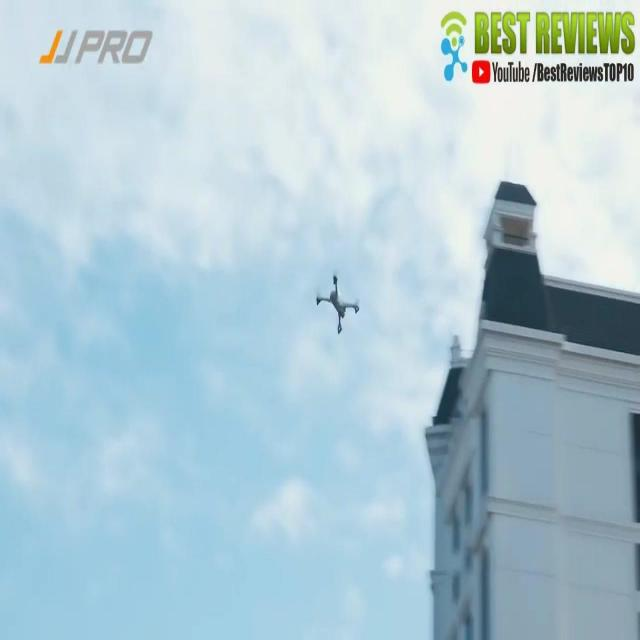UAV: (317, 276, 359, 334)
